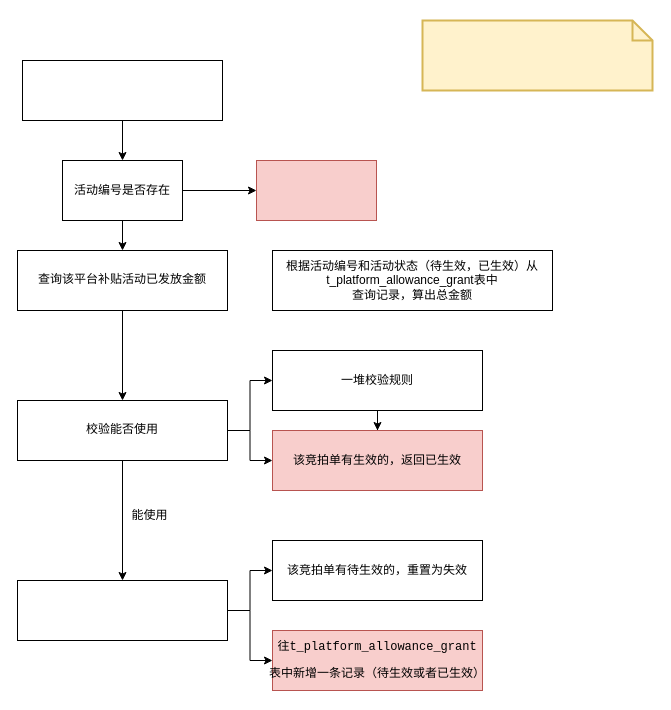
This 671x710 diagram has some shape labels left out. Here are the shapes that lost their labels. From the top down, the box of each, then its label:
(421, 19, 653, 91): t_platform_allowance_grant 平台补贴发放明细表
(22, 60, 222, 120): 查询当前活动能否使用该金额补贴
(256, 160, 376, 220): 不存在，参数错误
(16, 580, 228, 640): 生成使用明细
